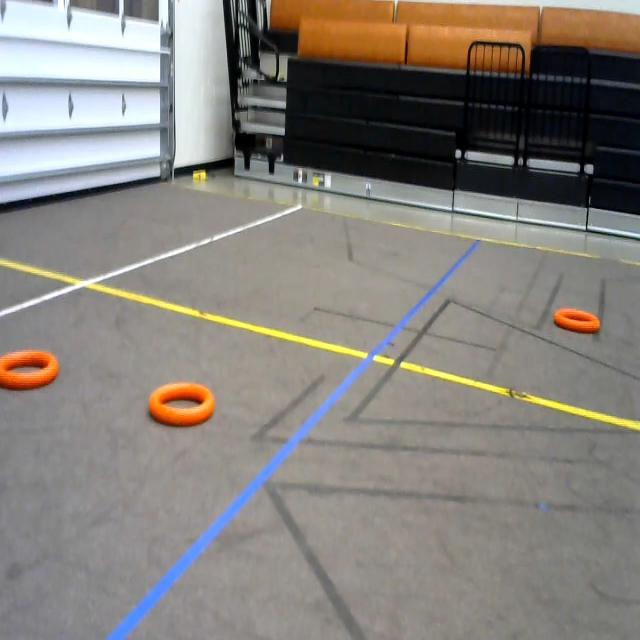note: (147, 372, 220, 434), (0, 343, 62, 401), (550, 292, 606, 345)
